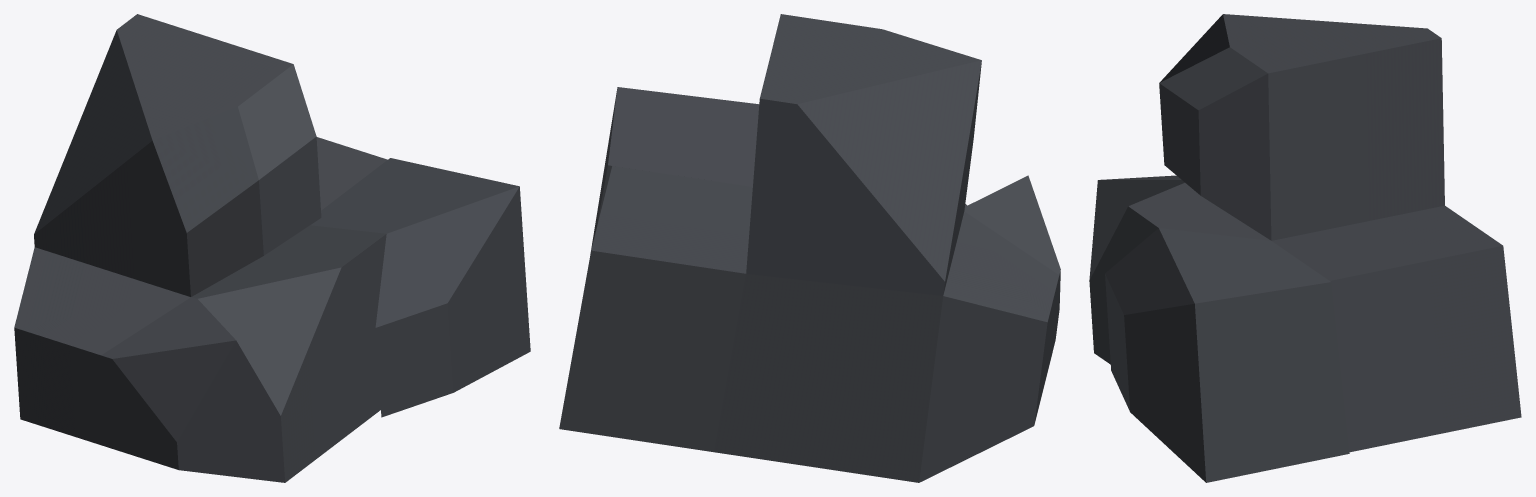
The model's file is rock3.obj.
3 renders of one model, left to right at view 1: azimuth 30°, elevation 25°; view 2: azimuth 150°, elevation 25°; view 3: azimuth 270°, elevation 25°, orthographic. The views are drawn at different scales.
Bounding box in the file's own units: 1.73 × 1.24 × 1.4.
1 material, 1 textured.
